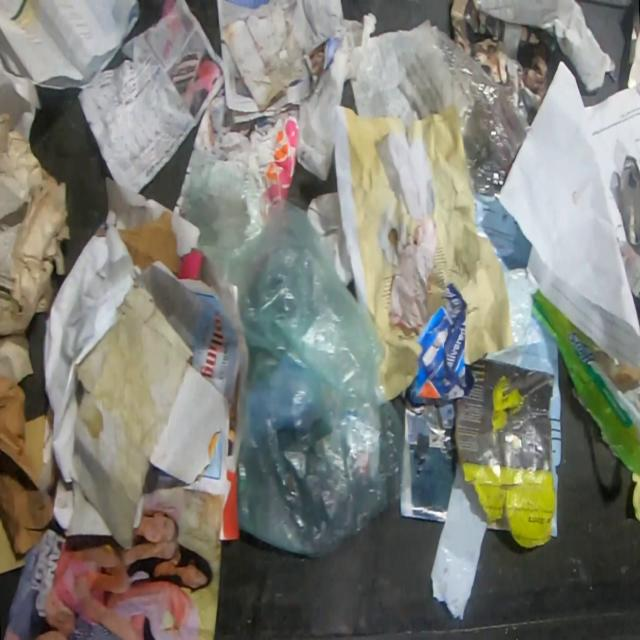cardboard: (68, 282, 195, 548), (533, 289, 640, 478), (452, 355, 554, 550), (0, 111, 72, 383), (0, 371, 58, 555), (116, 209, 182, 273), (0, 515, 26, 575)
soft_plastic: (180, 154, 422, 561), (397, 16, 533, 273), (429, 460, 487, 623)
